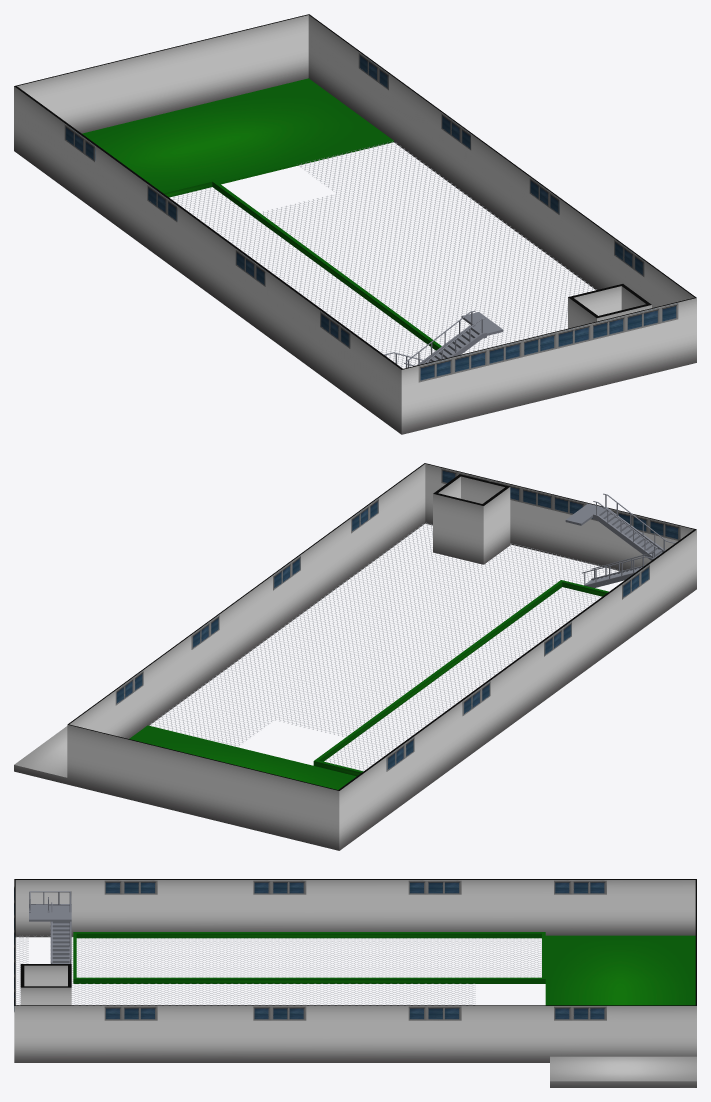
File: soulbrain_T6-1-4F.glb
3 views of the same model, one above another, from view 1: azimuth 30°, elevation 25°; view 2: azimuth 150°, elevation 25°; view 3: azimuth 270°, elevation 25° (orthographic). The views are drawn at different scales.
Visible parts, largest first — view 1: T6-1-4F, Shape002, Line104; view 2: T6-1-4F, Shape002, Line104; view 3: T6-1-4F, Shape002, Line104.
Part boxes in pixels (<box>): T6-1-4F: <box>14,14,696,434</box>; Shape002: <box>82,78,441,350</box>; Line104: <box>384,310,503,367</box>; T6-1-4F: <box>14,463,696,850</box>; Shape002: <box>129,580,608,789</box>; Line104: <box>565,493,675,587</box>; T6-1-4F: <box>14,879,696,1087</box>; Shape002: <box>73,932,695,1005</box>; Line104: <box>29,891,71,963</box>.
Bounding box in the file's own units: 20.49 × 4.87 × 38.97.
Materials: 7 (6 with a texture image).
